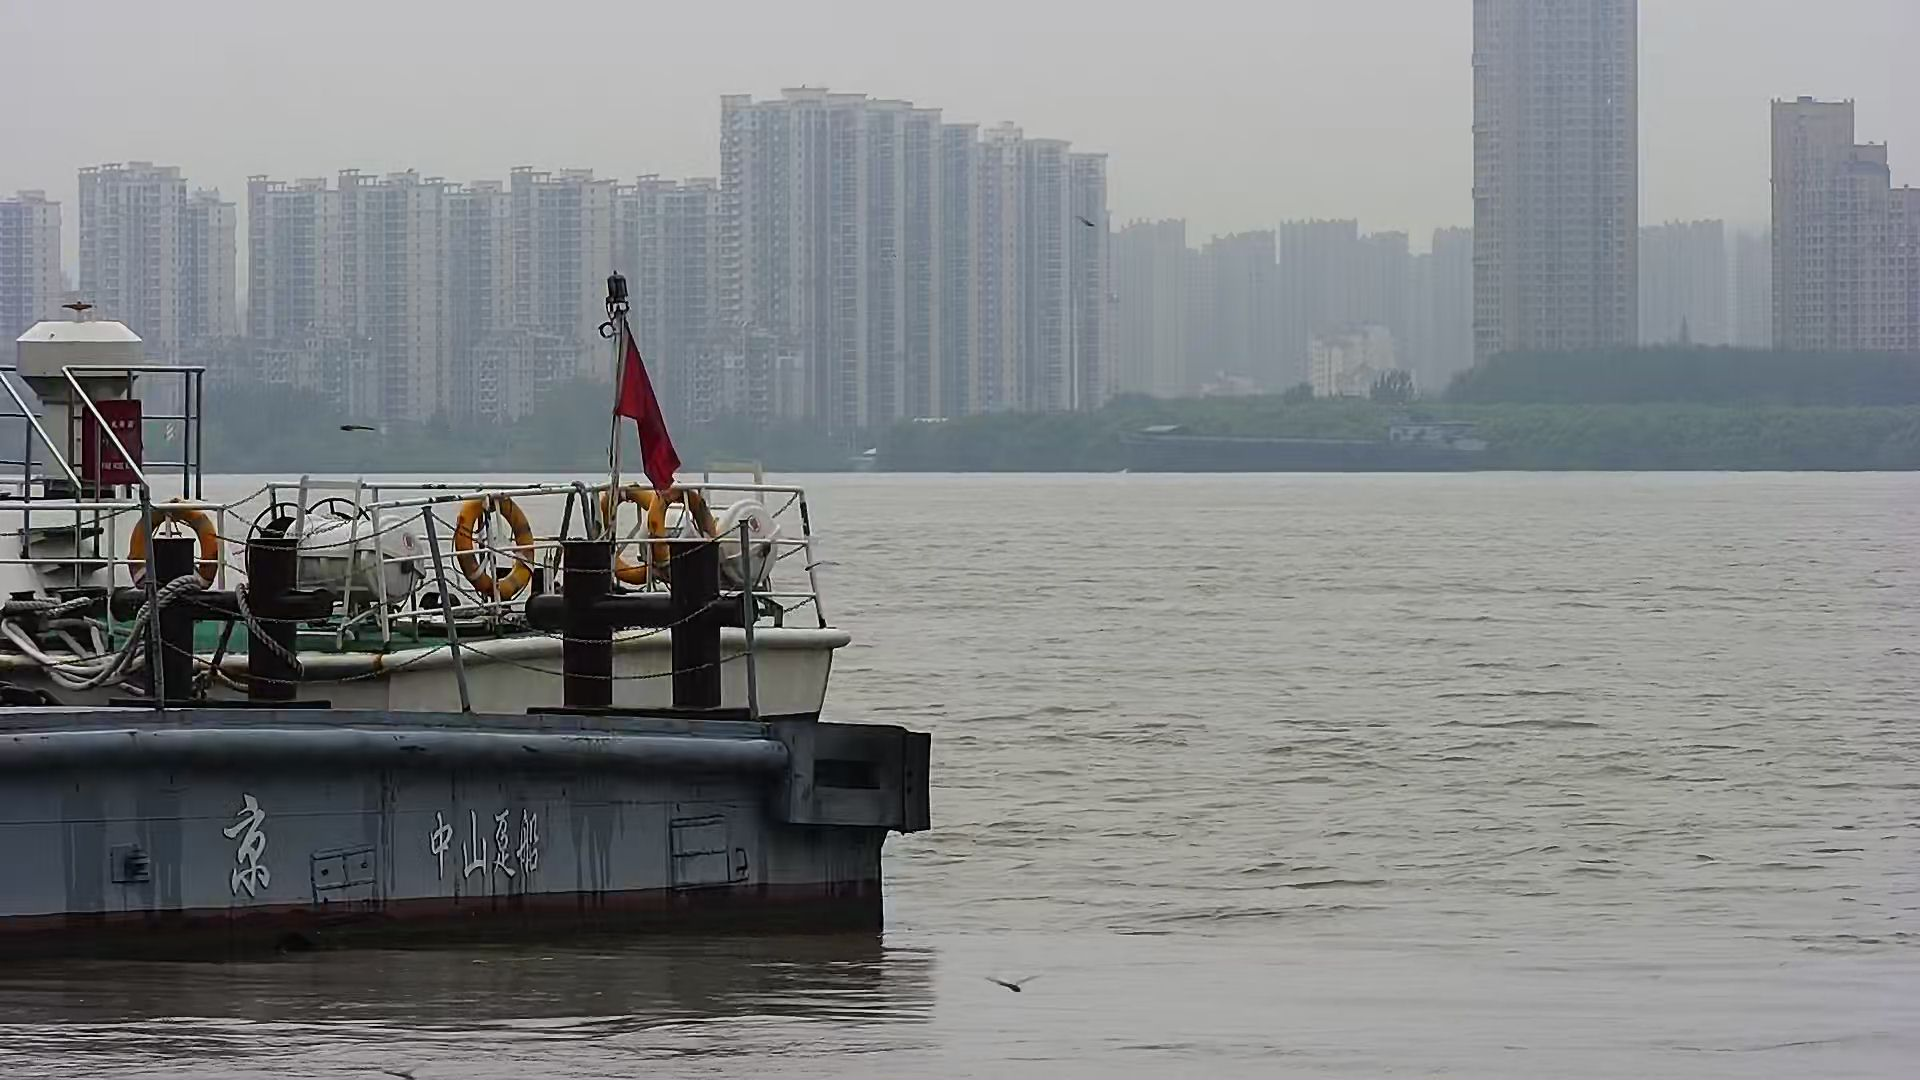ship: (1, 273, 932, 947), (1112, 413, 1494, 473)
